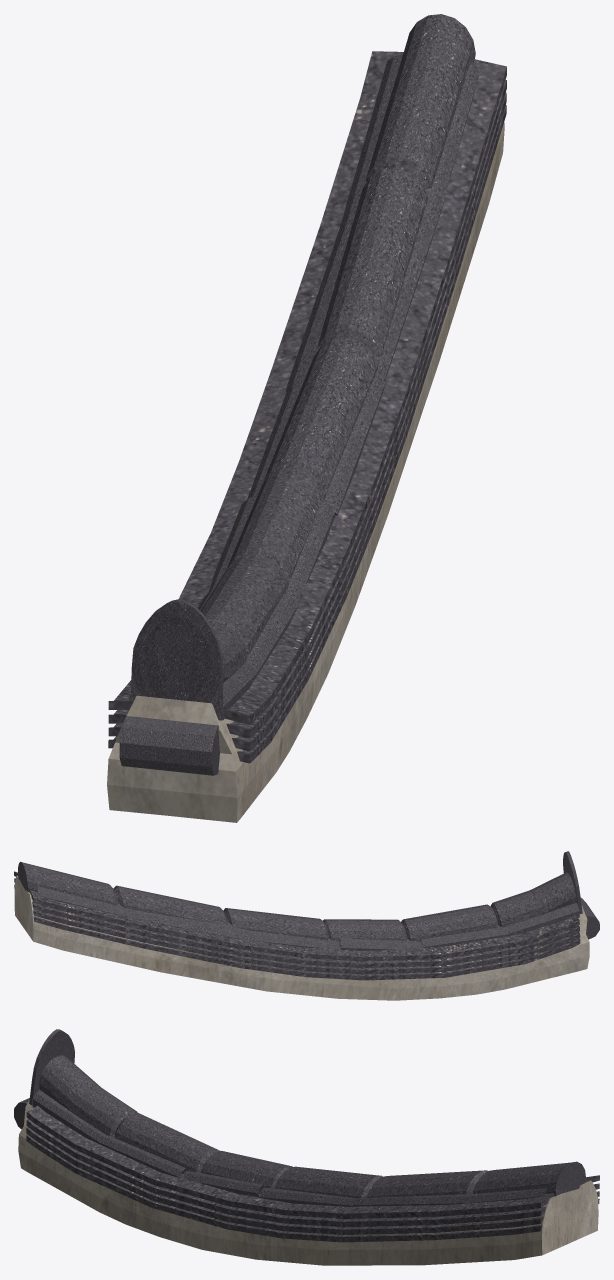
The model's file is SM_R_BeamRoof_13.fbx.
3 renders of one model, top to bottom at view 1: azimuth 30°, elevation 25°; view 2: azimuth 150°, elevation 25°; view 3: azimuth 270°, elevation 25°, orthographic. The views are drawn at different scales.
Visible parts, largest first — view 1: SM_R_BeamRoof_13; view 2: SM_R_BeamRoof_13; view 3: SM_R_BeamRoof_13.
Part boxes in pixels (x1,y1,x2,y2): SM_R_BeamRoof_13: (107,14,506,822); SM_R_BeamRoof_13: (14,851,599,1000); SM_R_BeamRoof_13: (14,1029,599,1265).
Size of the model in its own units: 242 by 254 by 104.
Materials: 2 (2 with a texture image).
